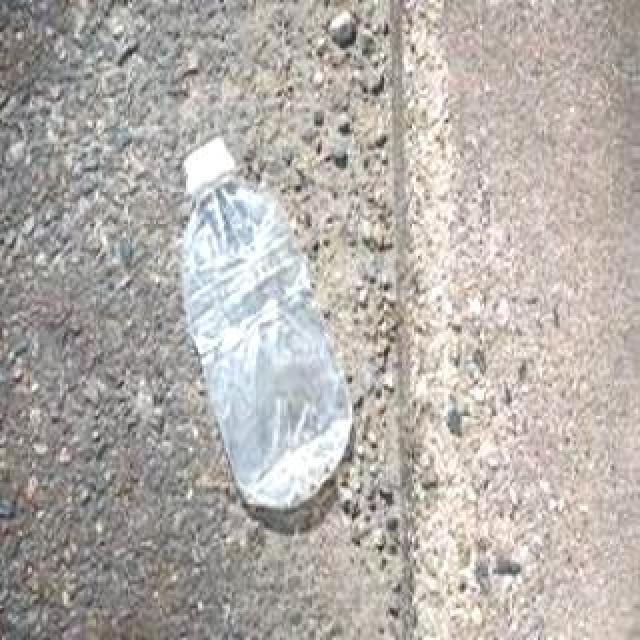Pet_Bottle: (175, 133, 359, 519)
